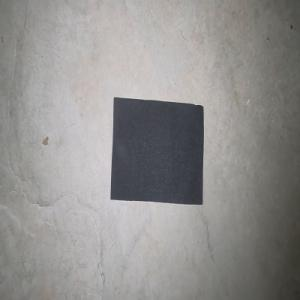PaintChip: (110, 96, 204, 204)
